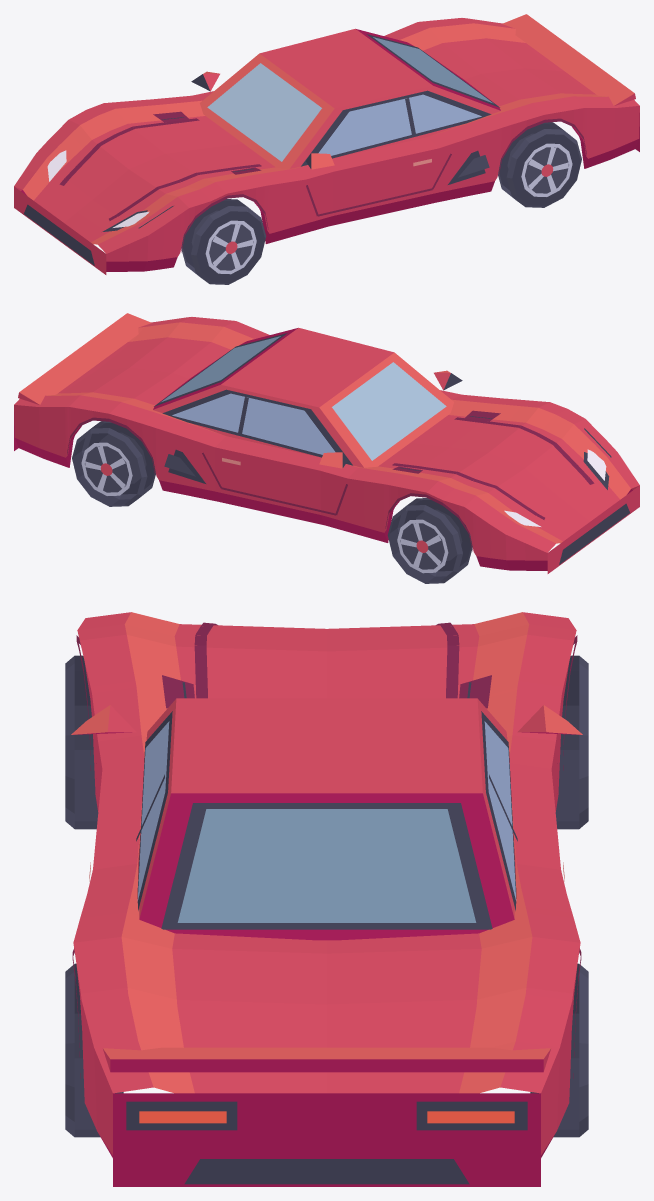
Rendered from sports-coupe.glb.
3 renders of one model, top to bottom at view 1: azimuth 30°, elevation 25°; view 2: azimuth 150°, elevation 25°; view 3: azimuth 270°, elevation 25°, orthographic. The views are drawn at different scales.
Parts seen in each view (by area): view 1: Body_PaintedShell_Glass_Trim, Wheel_Front_L, Wheel_Rear_L; view 2: Body_PaintedShell_Glass_Trim, Wheel_Front_R, Wheel_Rear_R; view 3: Body_PaintedShell_Glass_Trim, Wheel_Front_L, Wheel_Front_R, Wheel_Rear_L, Wheel_Rear_R.
Part boxes in pixels (x1,y1,x2,y2): Body_PaintedShell_Glass_Trim: (14,14,639,274); Wheel_Front_L: (181,199,266,284); Wheel_Rear_L: (498,122,581,207); Body_PaintedShell_Glass_Trim: (14,313,639,573); Wheel_Front_R: (387,498,472,583); Wheel_Rear_R: (72,421,155,506); Body_PaintedShell_Glass_Trim: (71,612,582,1186); Wheel_Front_L: (65,655,98,829); Wheel_Front_R: (555,655,588,829); Wheel_Rear_L: (65,963,123,1137); Wheel_Rear_R: (530,963,588,1137).
Size of the model in its own units: 4.62 by 1.05 by 2.
